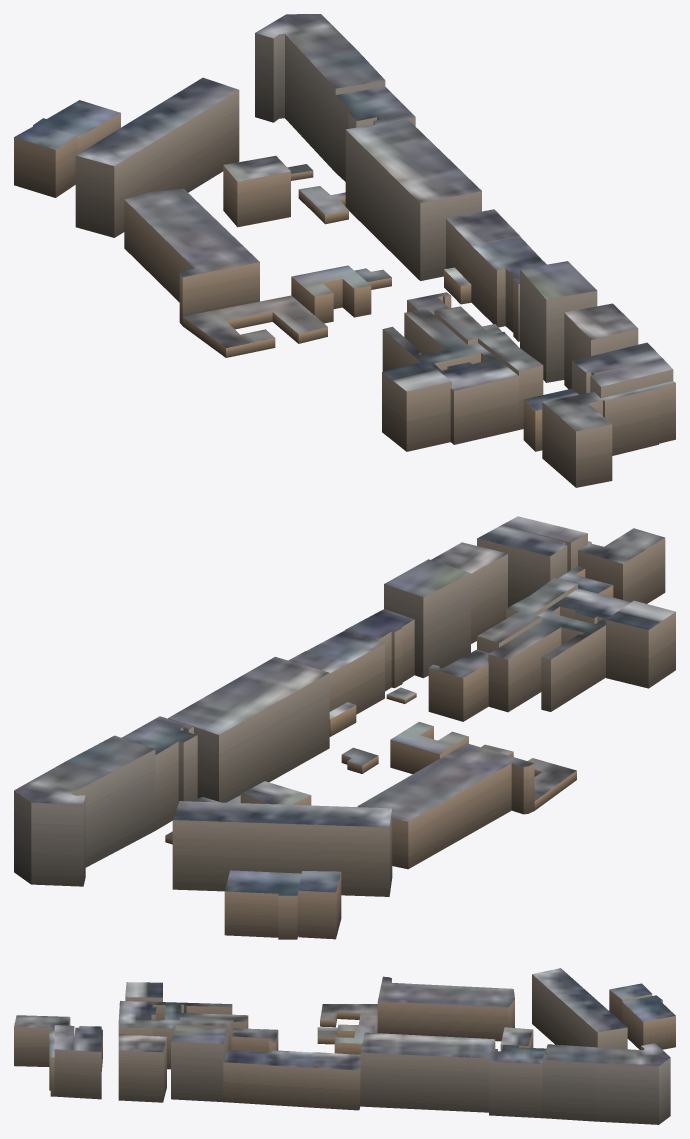
3 renders of one model, top to bottom at view 1: azimuth 30°, elevation 25°; view 2: azimuth 150°, elevation 25°; view 3: azimuth 270°, elevation 25°, orthographic. The views are drawn at different scales.
Bounding box in the file's own units: 82.28 × 19.65 × 202.
Materials: 2 (2 with a texture image).
